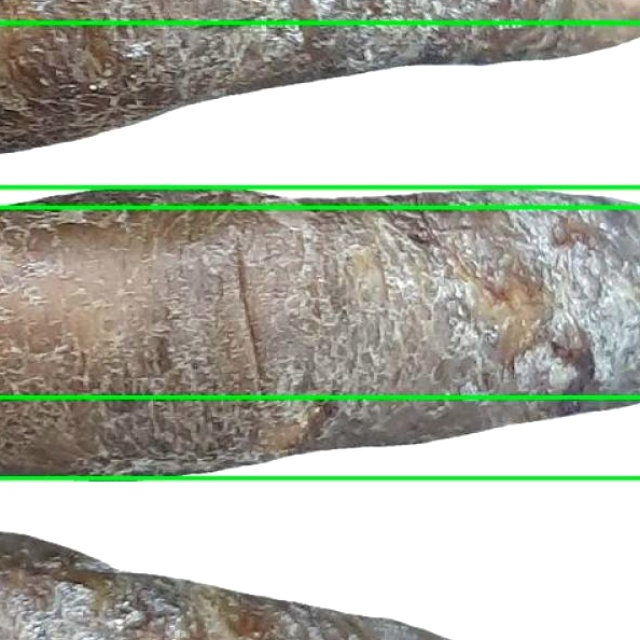Eczema: (0, 187, 639, 478), (0, 398, 639, 639), (0, 22, 639, 207)
